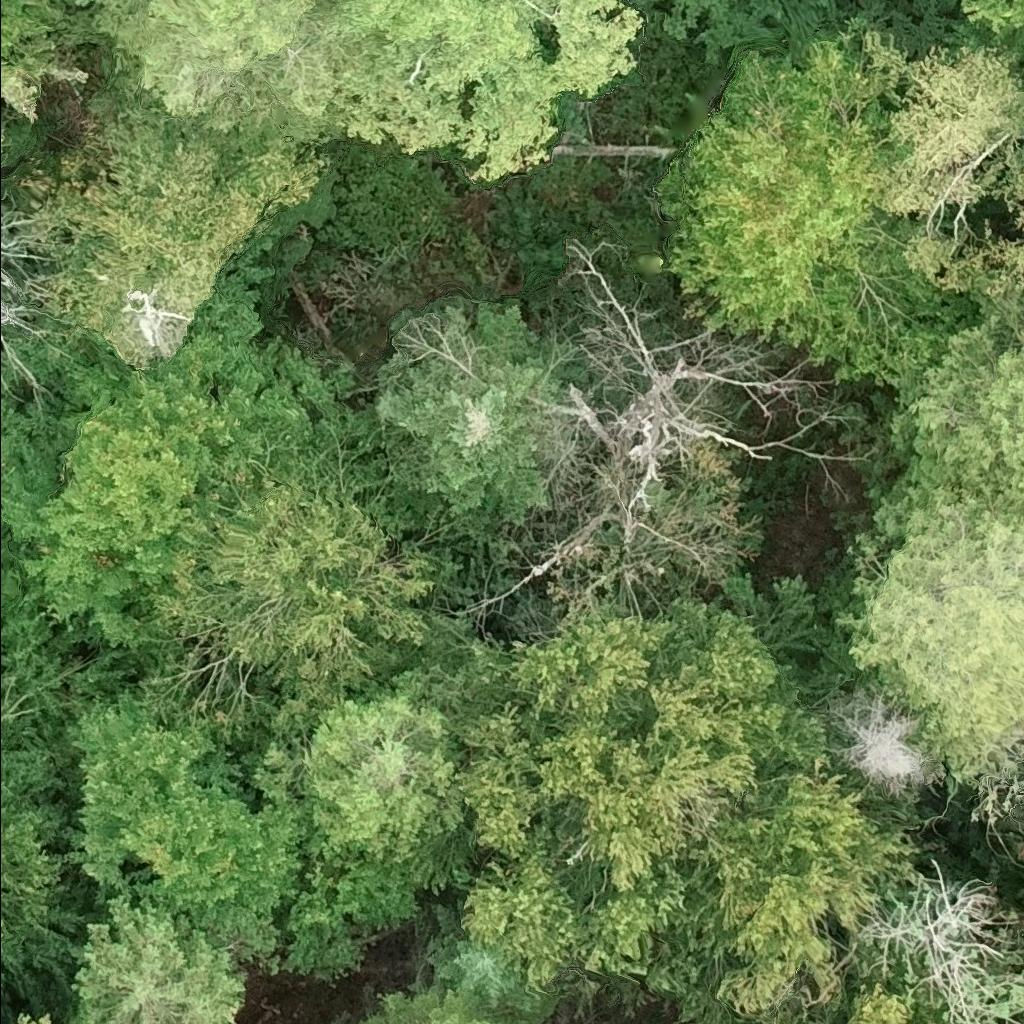crown: (428, 570, 918, 1023), (55, 689, 491, 992), (649, 15, 971, 388), (11, 330, 374, 650), (145, 443, 480, 770), (24, 89, 327, 369), (837, 496, 1023, 785), (368, 298, 590, 535), (249, 656, 463, 871), (90, 0, 344, 148), (0, 606, 90, 984), (860, 26, 1023, 220), (847, 856, 1023, 1023), (885, 315, 1023, 521), (64, 888, 249, 1023), (420, 896, 559, 1023), (821, 676, 942, 801), (0, 188, 60, 394), (0, 0, 99, 123), (966, 163, 1023, 337), (343, 979, 525, 1023), (846, 980, 946, 1023), (947, 0, 1023, 50), (42, 0, 99, 14), (17, 1012, 52, 1023), (0, 128, 11, 147)
